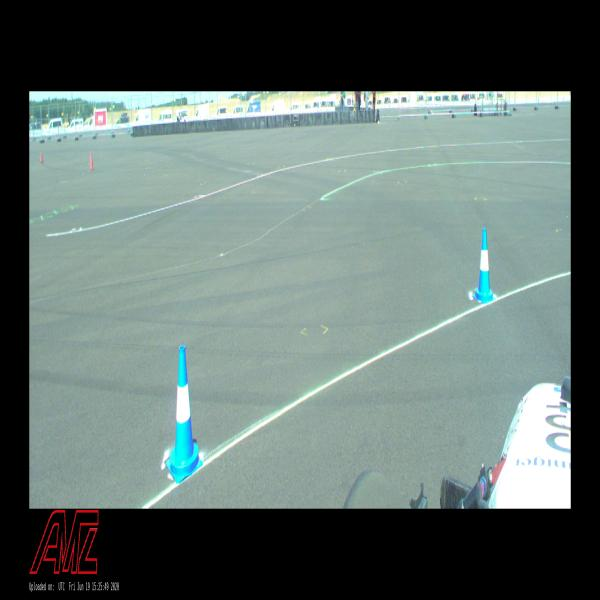blue_cone: (164, 345, 203, 485), (472, 228, 496, 304)
